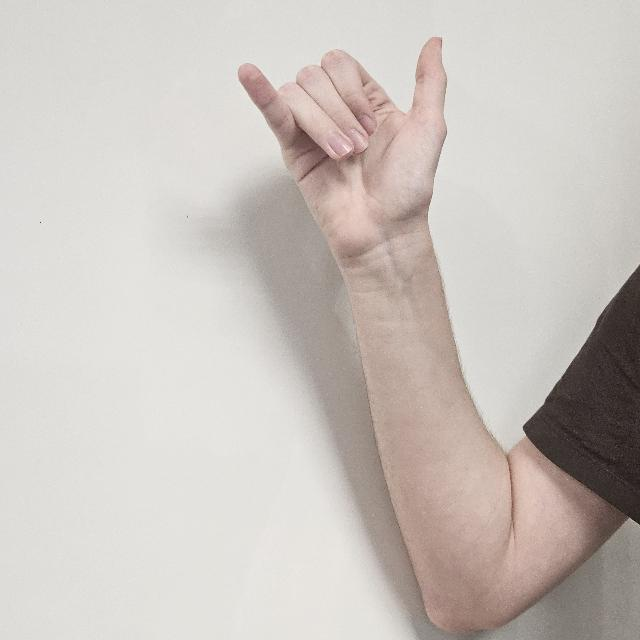Direita: (230, 35, 450, 251)
